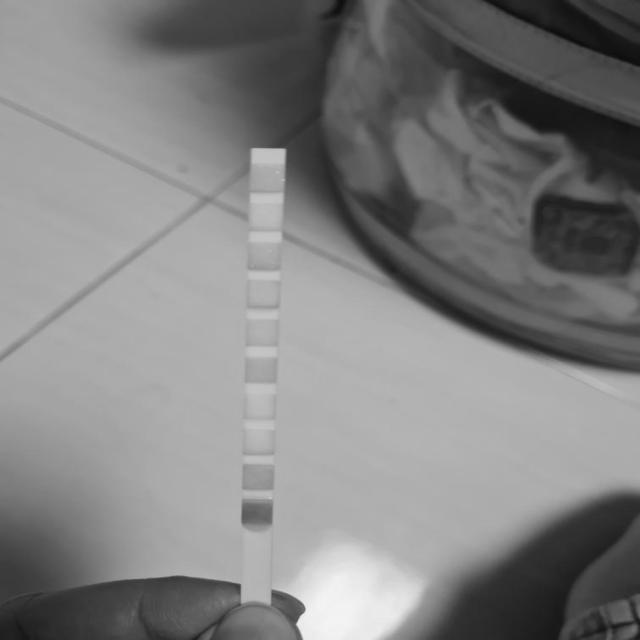Bilirubin: (244, 465, 273, 489)
Blood: (246, 358, 277, 382)
Glucose: (243, 500, 272, 524)
Ketone: (245, 429, 274, 454)
Leukocytes: (251, 164, 284, 191)
Nitrite: (251, 204, 282, 230)
Protein: (248, 280, 279, 308)
SpGravity: (246, 394, 274, 418)
Urobilinogen: (249, 243, 280, 270)
background: (0, 0, 640, 640)
pH: (246, 320, 278, 346)
strip: (241, 148, 286, 601)
